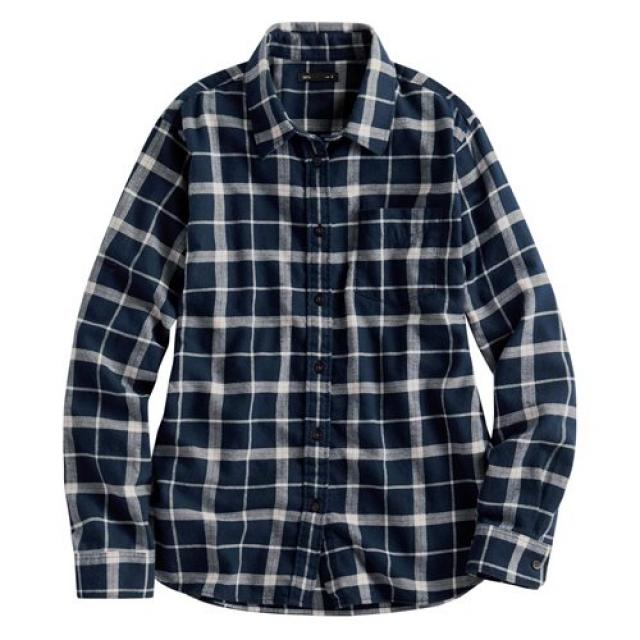plaid: (59, 21, 576, 612)
